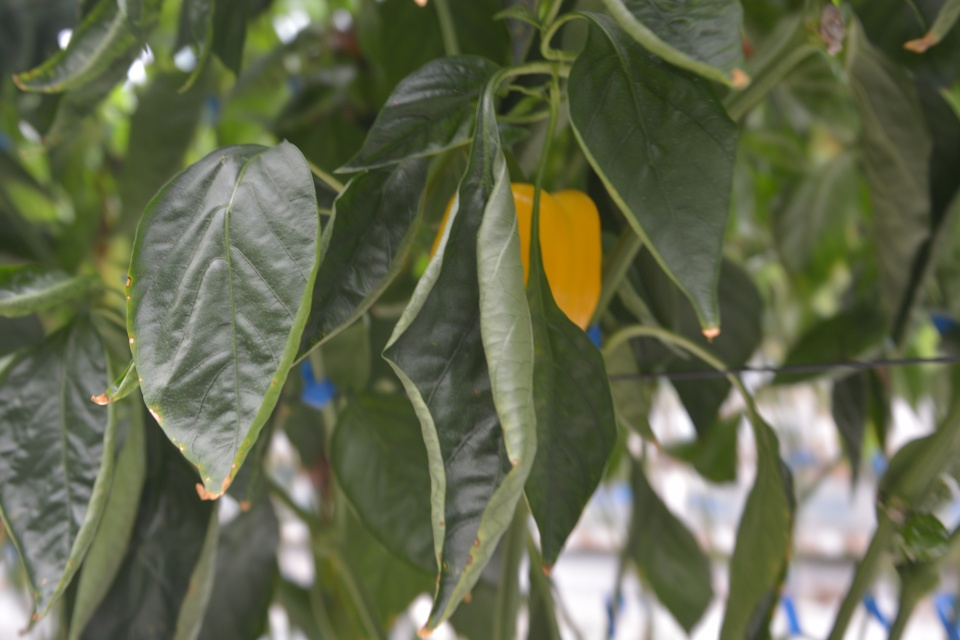fruit: (427, 182, 603, 334)
